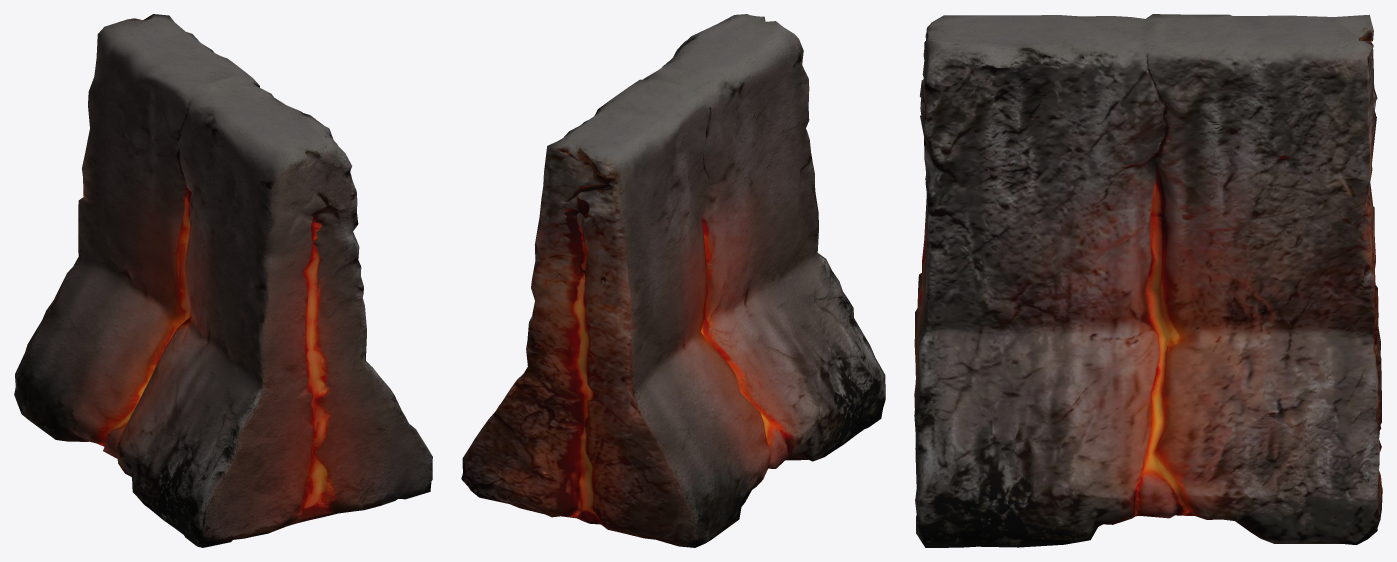
Rendered from red-rode-Barrier.fbx.
The picture shows the model from 3 angles, left to right: view 1: azimuth 30°, elevation 25°; view 2: azimuth 150°, elevation 25°; view 3: azimuth 270°, elevation 25°; orthographic projection. The views are drawn at different scales.
Visible parts, largest first — view 1: tripo_node_6670499a; view 2: tripo_node_6670499a; view 3: tripo_node_6670499a.
Boxes of the visible parts, left/top/right/bottom form: tripo_node_6670499a: left=14, top=14, right=432, bottom=547; tripo_node_6670499a: left=461, top=14, right=885, bottom=547; tripo_node_6670499a: left=914, top=14, right=1382, bottom=547.
Size of the model in its own units: 0.6573 by 0.999 by 0.9347.
1 material, 1 textured.
